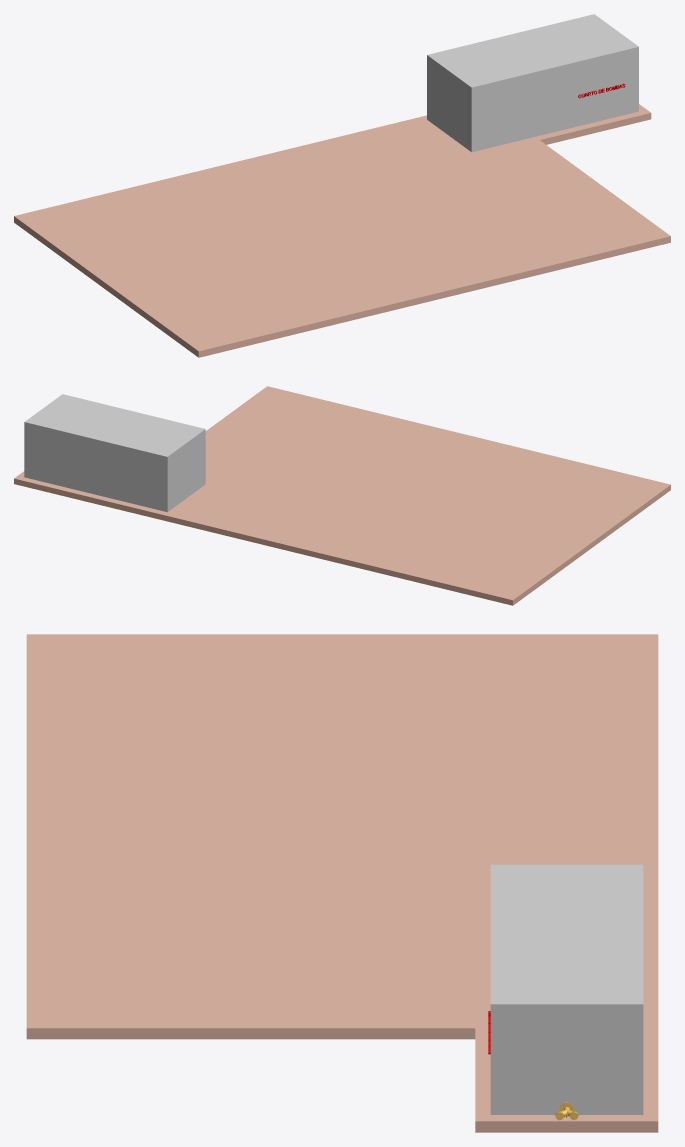
The model's file is piso1_bombas.glb.
3 renders of one model, top to bottom at view 1: azimuth 30°, elevation 25°; view 2: azimuth 150°, elevation 25°; view 3: azimuth 270°, elevation 25°, orthographic. The views are drawn at different scales.
Parts seen in each view (by area): view 1: Geom3D (×2); view 2: Geom3D (×2); view 3: Geom3D (×2).
Part boxes in pixels (x1=…): Geom3D (×2): x1=14, y1=14, x2=670, y2=357; Geom3D (×2): x1=14, y1=386, x2=670, y2=605; Geom3D (×2): x1=26, y1=634, x2=658, y2=1132.
Size of the model in its own units: 18.91 by 2.2 by 10.35.
